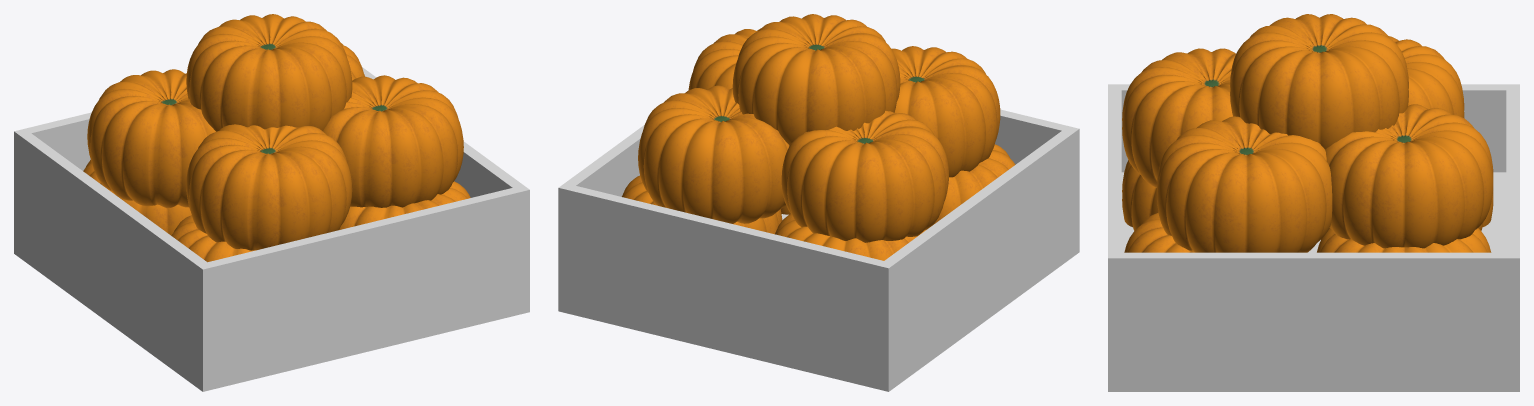
The model's file is box pumpy.fbx.
3 views of the same model, side by side, from view 1: azimuth 30°, elevation 25°; view 2: azimuth 150°, elevation 25°; view 3: azimuth 270°, elevation 25° (orthographic). The views are drawn at different scales.
Visible parts, largest first — view 1: Cube.002, pumpkin.005, pumpkin.004, pumpkin.006, pumpkin.007, pumpkin.001, pumpkin, pumpkin.002; view 2: Cube.002, pumpkin.007, pumpkin.004, pumpkin.008, pumpkin.005, pumpkin.006, pumpkin, pumpkin.002, pumpkin.003; view 3: Cube.002, pumpkin.006, pumpkin.008, pumpkin.004, pumpkin.005, pumpkin.007, pumpkin.003, pumpkin, pumpkin.001.
Part boxes in pixels (<box>): Cube.002: <box>14,67,529,391</box>; pumpkin.005: <box>186,124,352,250</box>; pumpkin.004: <box>186,14,352,131</box>; pumpkin.006: <box>323,75,463,207</box>; pumpkin.007: <box>87,69,215,208</box>; pumpkin.001: <box>339,181,470,229</box>; pumpkin: <box>171,215,255,262</box>; pumpkin.002: <box>83,160,191,235</box>; Cube.002: <box>558,109,1079,391</box>; pumpkin.007: <box>781,110,948,242</box>; pumpkin.004: <box>732,14,900,144</box>; pumpkin.008: <box>638,85,789,223</box>; pumpkin.005: <box>891,46,1000,177</box>; pumpkin.006: <box>688,28,760,90</box>; pumpkin: <box>926,144,1015,229</box>; pumpkin.002: <box>775,214,925,260</box>; pumpkin.003: <box>622,175,782,234</box>; Cube.002: <box>1108,84,1519,391</box>; pumpkin.006: <box>1157,116,1332,252</box>; pumpkin.008: <box>1325,104,1493,248</box>; pumpkin.004: <box>1230,14,1408,149</box>; pumpkin.005: <box>1122,48,1235,187</box>; pumpkin.007: <box>1388,36,1464,117</box>; pumpkin.003: <box>1317,228,1491,252</box>; pumpkin: <box>1122,160,1158,230</box>; pumpkin.001: <box>1124,212,1194,252</box>.
Size of the model in its own units: 60.3 by 43.2 by 60.3.
